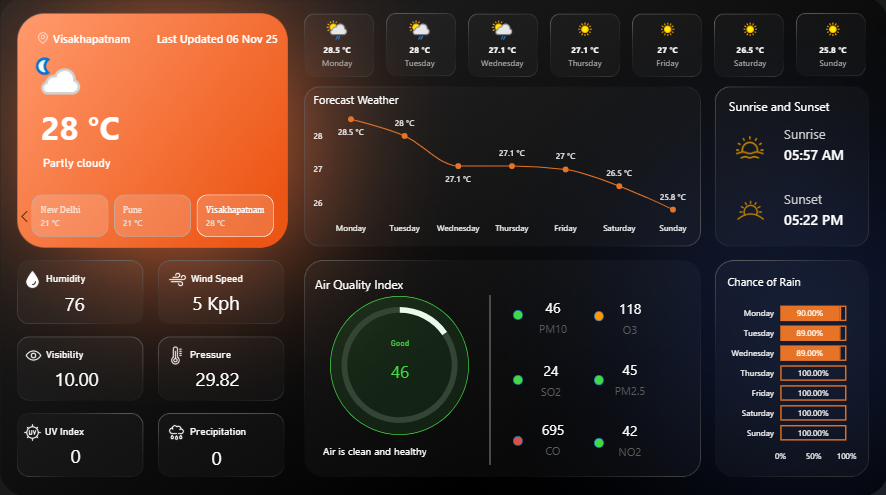

What the dashboard file says about the page in this screenshot:
{"tool":"powerbi","page":{"name":"Page 1","canvas":[1280,720],"ordinal":0},"visuals":[{"type":"donutChart","fields":{"Y":["Sum(Current.current.air_quality.pm10)","_Measures.Left_value_PM10"]},"box":[465.1,419,220.3,218.9],"z":0},{"type":"shape","box":[475.2,429.1,200.2,200.2],"z":1000},{"type":"advancedSlicerVisual","fields":{"Values":["Locations.location.name"]},"box":[20.7,277.9,400,71.4],"z":2000},{"type":"shape","box":[59.2,154.2,151.4,56.4],"z":3000},{"type":"shape","box":[62.1,213.3,101.9,46.2],"z":4000},{"type":"shape","box":[76.4,34.3,119.3,47.1],"z":5000},{"type":"image","box":[42.1,45,39.3,26.4],"z":6000},{"type":"cardVisual","fields":{"Data":["Min(Current.current.condition.icon)"]},"box":[22.3,63.7,105.1,106.7],"z":7000},{"type":"image","box":[28.7,388,36,36],"z":8000},{"type":"image","box":[237.3,387.3,36,36],"z":9000},{"type":"image","box":[30.3,496.9,36,36],"z":10000},{"type":"image","box":[236.7,496.7,36,36],"z":11000},{"type":"image","box":[28.9,608.3,35.8,35.8],"z":12000},{"type":"image","box":[236.7,608.3,35.8,35.8],"z":13000},{"type":"shape","box":[66.1,381.2,101.8,46.8],"z":14000},{"type":"shape","box":[275.3,381.2,101.8,46.8],"z":15000},{"type":"shape","box":[66,490.7,102.1,46.4],"z":16000},{"type":"shape","box":[273.2,490.7,102.1,46.4],"z":17000},{"type":"shape","box":[64.9,602.1,102.1,46.4],"z":18000},{"type":"shape","box":[274.2,602.1,102.1,46.4],"z":19000},{"type":"card","fields":{"Values":["Sum(Current.current.humidity)"]},"box":[33.5,365.5,148.4,150],"z":20000},{"type":"card","fields":{"Values":["_Measures.Wind_Speed"]},"box":[236.3,363.9,149.3,150.8],"z":21000},{"type":"card","fields":{"Values":["Sum(Current.current.pressure_in)"]},"box":[238.8,474.4,148.1,151.2],"z":22000},{"type":"card","fields":{"Values":["Sum(Current.current.vis_km)"]},"box":[36.6,474.4,148.1,151.2],"z":23000},{"type":"card","fields":{"Values":["Sum(Current.current.uv)"]},"box":[35,605,148.1,111.4],"z":24000},{"type":"card","fields":{"Values":["Sum(Current.current.precip_mm)"]},"box":[237.2,608.2,148.1,111.4],"z":25000},{"type":"advancedSlicerVisual","fields":{"Values":["Forecast_Day.Day_Name"]},"box":[435.1,21.6,818.9,97.3],"z":26000},{"type":"lineChart","title":"Forecast Weather","fields":{"Y":["Sum(Forecast_Day.forecast.forecastday.day.avgtemp_c)"],"Category":["Forecast_Day.Day_Name"]},"box":[446.9,135.7,558.6,213.9],"z":27000},{"type":"shape","box":[1128.4,197.9,151.6,55.9],"z":28000},{"type":"shape","box":[1128.4,290.5,151.6,55.9],"z":29000},{"type":"shape","box":[1128.4,169.2,151.6,55.9],"z":30000},{"type":"shape","box":[1128.4,261.7,151.6,55.9],"z":31000},{"type":"shape","box":[1050.2,130.9,175.6,46.3],"z":32000},{"type":"image","box":[1050.2,189.9,60,50],"z":33000},{"type":"image","box":[1045.4,274.5,70.2,60.6],"z":34000},{"type":"hundredPercentStackedBarChart","title":"Chance of Rain","fields":{"Y":["Sum(Forecast_Day.forecast.forecastday.day.daily_chance_of_rain)","_Measures.Left_value_Rain"],"Category":["Forecast_Day.Day_Name"]},"box":[1042.2,397.4,196.3,280.9],"z":35000},{"type":"shape","box":[453.3,387.8,175.6,46.3],"z":36000},{"type":"card","fields":{"Values":["Sum(Current.current.air_quality.o3)"]},"box":[870,420.6,75,76.9],"z":37000},{"type":"card","fields":{"Values":["Sum(Current.current.air_quality.pm2_5)"]},"box":[870,510,75,75],"z":38000},{"type":"card","fields":{"Values":["Sum(Current.current.air_quality.pm10)"]},"box":[761.8,414.7,69.1,86.4],"z":39000},{"type":"card","fields":{"Values":["Sum(Current.current.air_quality.so2)"]},"box":[756,511.2,74.6,76.1],"z":40000},{"type":"card","fields":{"Values":["Sum(Current.current.air_quality.no2)"]},"box":[870.1,597.8,74.6,74.6],"z":41000},{"type":"card","fields":{"Values":["Sum(Current.current.air_quality.co)"]},"box":[759,596.3,74.6,76.1],"z":42000},{"type":"shape","box":[738.7,449.3,14.4,14.4],"z":43000},{"type":"shape","box":[738.1,630.6,14.2,14.2],"z":44000},{"type":"shape","box":[738.7,542.9,14.4,14.4],"z":45000},{"type":"shape","box":[855.4,633.6,14.4,14.4],"z":46000},{"type":"shape","box":[856,542.5,14.2,14.9],"z":47000},{"type":"shape","box":[856,450.7,14.2,14.9],"z":48000},{"type":"shape","box":[617.8,427.7,175.7,244.8],"z":49000},{"type":"card","fields":{"Values":["Sum(Current.current.air_quality.pm10)"]},"box":[541.4,489.6,69.1,86.4],"z":50000},{"type":"shape","box":[465.1,629.3,220.3,46.1],"z":51000},{"type":"shape","box":[224.6,34.6,175.7,46.1],"z":52001}]}

Visuals, with their boxes in screenshot pixels (x1, y1, x2, y2), scaled from the page's 1280x720 canvas onto the 886x495 screenshot:
donutChart - Sum(Current.current.air_quality.pm10) x _Measures.Left_value_PM10: l=322, t=288, r=474, b=439
shape: l=329, t=295, r=468, b=433
advancedSlicerVisual - Locations.location.name: l=14, t=191, r=291, b=240
shape: l=41, t=106, r=146, b=145
shape: l=43, t=147, r=114, b=178
shape: l=53, t=24, r=135, b=56
image: l=29, t=31, r=56, b=49
cardVisual - Min(Current.current.condition.icon): l=15, t=44, r=88, b=117
image: l=20, t=267, r=45, b=292
image: l=164, t=266, r=189, b=291
image: l=21, t=342, r=46, b=366
image: l=164, t=341, r=189, b=366
image: l=20, t=418, r=45, b=443
image: l=164, t=418, r=189, b=443
shape: l=46, t=262, r=116, b=294
shape: l=191, t=262, r=261, b=294
shape: l=46, t=337, r=116, b=369
shape: l=189, t=337, r=260, b=369
shape: l=45, t=414, r=116, b=446
shape: l=190, t=414, r=260, b=446
card - Sum(Current.current.humidity): l=23, t=251, r=126, b=354
card - _Measures.Wind_Speed: l=164, t=250, r=267, b=354
card - Sum(Current.current.pressure_in): l=165, t=326, r=268, b=430
card - Sum(Current.current.vis_km): l=25, t=326, r=128, b=430
card - Sum(Current.current.uv): l=24, t=416, r=127, b=493
card - Sum(Current.current.precip_mm): l=164, t=418, r=267, b=494
advancedSlicerVisual - Forecast_Day.Day_Name: l=301, t=15, r=868, b=82
"Forecast Weather" lineChart: l=309, t=93, r=696, b=240
shape: l=781, t=136, r=885, b=174
shape: l=781, t=200, r=885, b=238
shape: l=781, t=116, r=885, b=155
shape: l=781, t=180, r=885, b=218
shape: l=727, t=90, r=848, b=122
image: l=727, t=131, r=768, b=165
image: l=724, t=189, r=772, b=230
"Chance of Rain" hundredPercentStackedBarChart: l=721, t=273, r=857, b=466
shape: l=314, t=267, r=435, b=298
card - Sum(Current.current.air_quality.o3): l=602, t=289, r=654, b=342
card - Sum(Current.current.air_quality.pm2_5): l=602, t=351, r=654, b=402
card - Sum(Current.current.air_quality.pm10): l=527, t=285, r=575, b=345
card - Sum(Current.current.air_quality.so2): l=523, t=351, r=575, b=404
card - Sum(Current.current.air_quality.no2): l=602, t=411, r=654, b=462
card - Sum(Current.current.air_quality.co): l=525, t=410, r=577, b=462
shape: l=511, t=309, r=521, b=319
shape: l=511, t=434, r=521, b=443
shape: l=511, t=373, r=521, b=383
shape: l=592, t=436, r=602, b=446
shape: l=593, t=373, r=602, b=383
shape: l=593, t=310, r=602, b=320
shape: l=428, t=294, r=549, b=462
card - Sum(Current.current.air_quality.pm10): l=375, t=337, r=423, b=396
shape: l=322, t=433, r=474, b=464
shape: l=155, t=24, r=277, b=55
